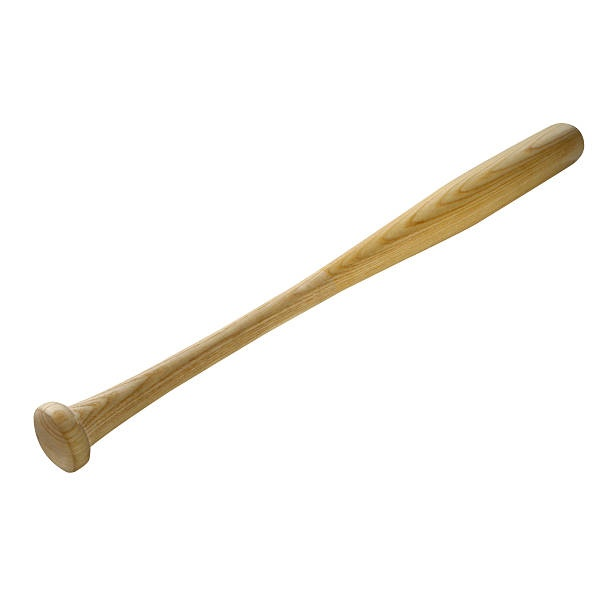bita: (38, 124, 578, 470)
